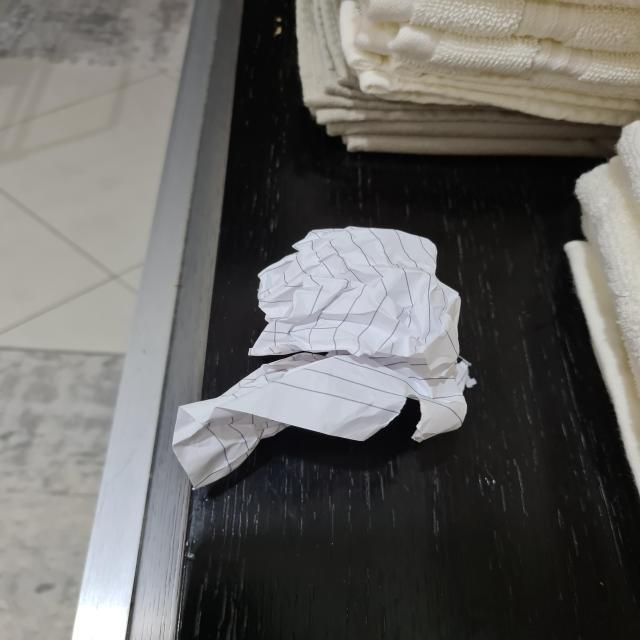trash: (172, 224, 466, 483)
